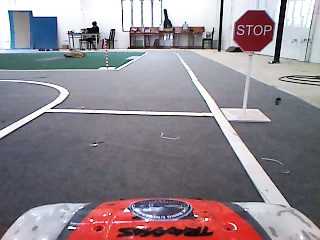stop: (234, 10, 275, 52)
